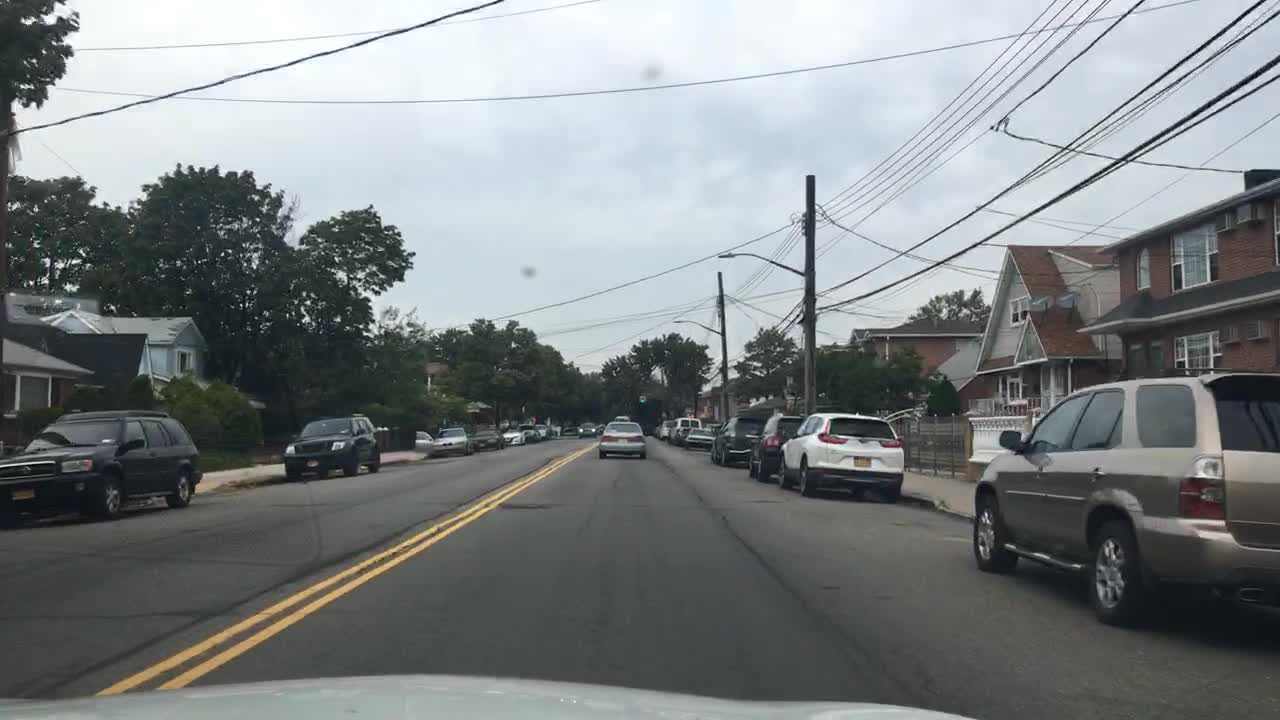car: (972, 368, 1277, 628), (1, 407, 206, 519), (775, 411, 905, 503), (281, 414, 381, 480), (745, 411, 817, 486), (709, 411, 770, 467), (598, 418, 647, 461), (433, 425, 470, 457), (467, 422, 507, 450), (668, 416, 701, 445), (685, 423, 716, 451), (514, 420, 545, 444), (413, 427, 436, 454), (499, 425, 527, 447), (578, 421, 599, 439), (532, 421, 548, 440), (657, 419, 674, 436), (545, 427, 561, 442), (560, 425, 577, 437)
